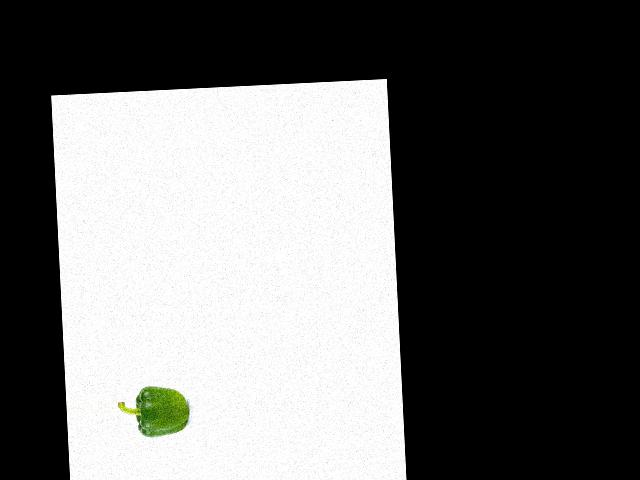bell_pepper: (118, 383, 190, 446)
